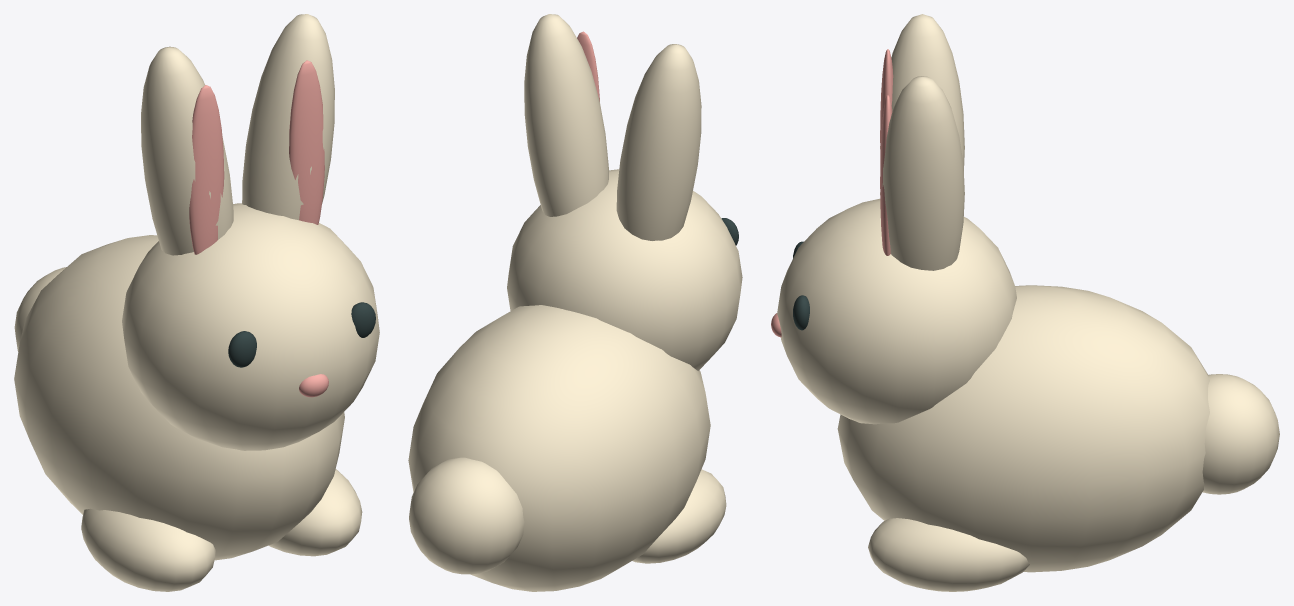
The model's file is rabbit.glb.
The picture shows the model from 3 angles, left to right: view 1: azimuth 30°, elevation 25°; view 2: azimuth 150°, elevation 25°; view 3: azimuth 270°, elevation 25°; orthographic projection. The views are drawn at different scales.
Parts seen in each view (by area): view 1: rabbit / material batches; view 2: rabbit / material batches; view 3: rabbit / material batches.
Boxes of the visible parts, bbox=[...] form: rabbit / material batches: bbox=[14, 14, 379, 591]; rabbit / material batches: bbox=[408, 14, 742, 591]; rabbit / material batches: bbox=[771, 14, 1279, 591].
Size of the model in its own units: 0.46 by 0.9374 by 0.84.
